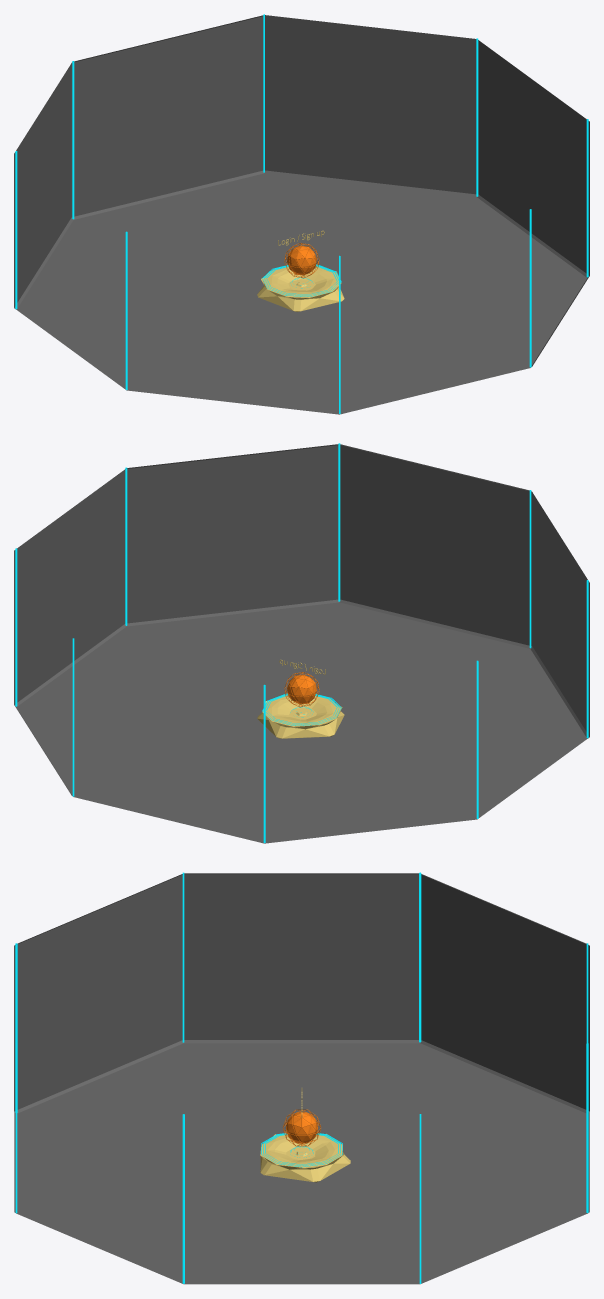
Rendered from floorlab.glb.
3 views of the same model, one above another, from view 1: azimuth 30°, elevation 25°; view 2: azimuth 150°, elevation 25°; view 3: azimuth 270°, elevation 25° (orthographic). The views are drawn at different scales.
Parts seen in each view (by area): view 1: wall, light, foundation.001, star.001; view 2: wall, light, foundation.001, star.001; view 3: wall, light, foundation.001, star.001.
Part boxes in pixels (x1=…): wall: x1=14, y1=15, x2=589, y2=414; light: x1=15, y1=14, x2=588, y2=413; foundation.001: x1=257, y1=266, x2=344, y2=311; star.001: x1=287, y1=245, x2=316, y2=275; wall: x1=14, y1=444, x2=589, y2=843; light: x1=15, y1=443, x2=588, y2=843; foundation.001: x1=257, y1=695, x2=344, y2=738; star.001: x1=287, y1=674, x2=316, y2=704; wall: x1=14, y1=873, x2=589, y2=1284; light: x1=15, y1=872, x2=588, y2=1283; foundation.001: x1=260, y1=1133, x2=350, y2=1182; star.001: x1=285, y1=1112, x2=318, y2=1143.
Size of the model in its own units: 24.16 by 7.89 by 24.16.
